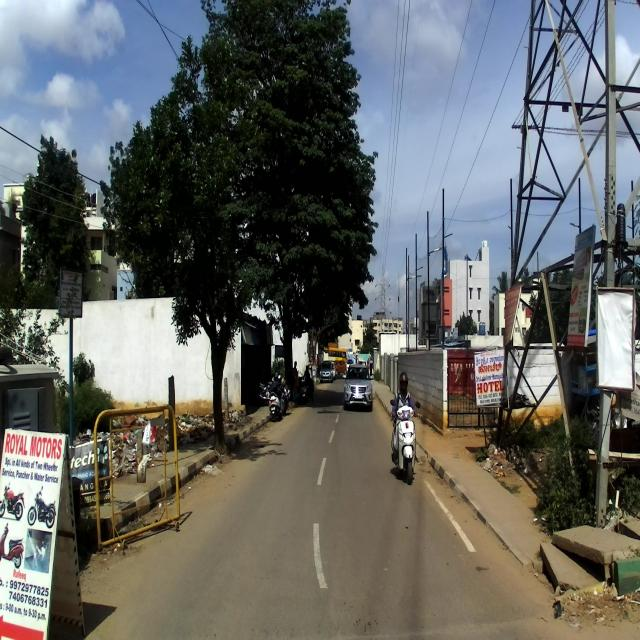Car_Hyundai: (343, 358, 374, 411)
scooter: (389, 398, 421, 486)
